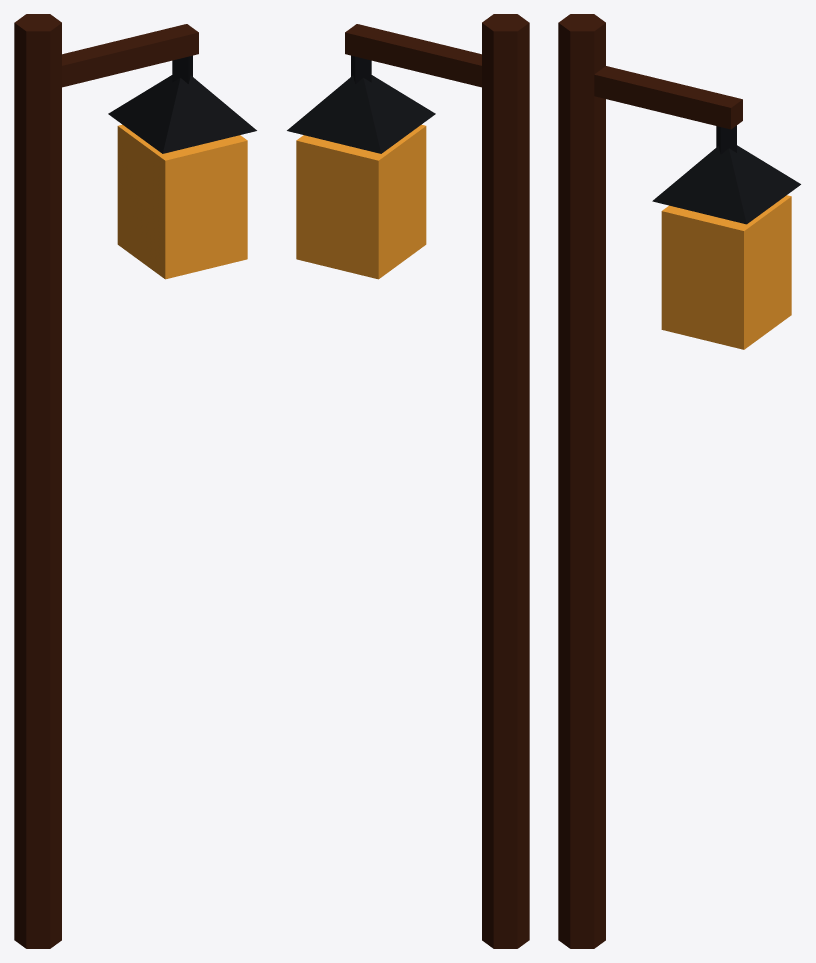
File: swamp_lantern.obj
3 renders of one model, left to right at view 1: azimuth 30°, elevation 25°; view 2: azimuth 150°, elevation 25°; view 3: azimuth 330°, elevation 25°, orthographic.
Visible parts, largest first — view 1: swamp_lantern; view 2: swamp_lantern; view 3: swamp_lantern.
Part boxes in pixels (x1,y1,x2,y2): swamp_lantern: [14, 14, 256, 948]; swamp_lantern: [287, 14, 529, 948]; swamp_lantern: [558, 14, 800, 948].
Size of the model in its own units: 0.4066 by 1.7 by 0.1838.
